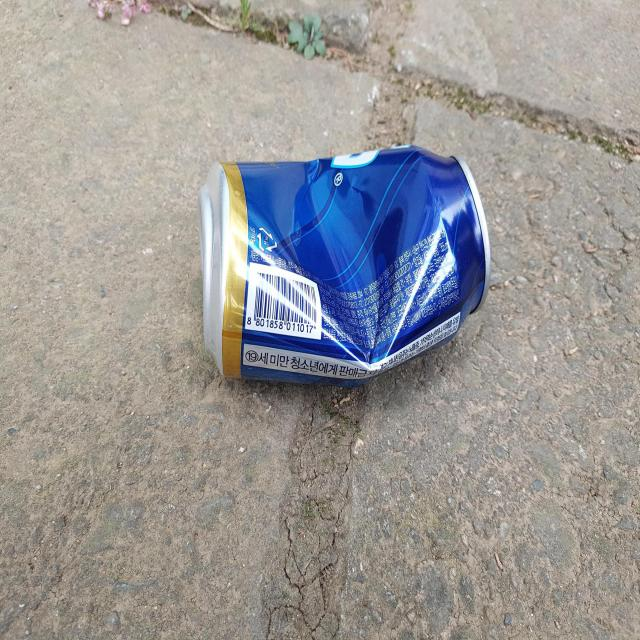can: (199, 145, 491, 387)
